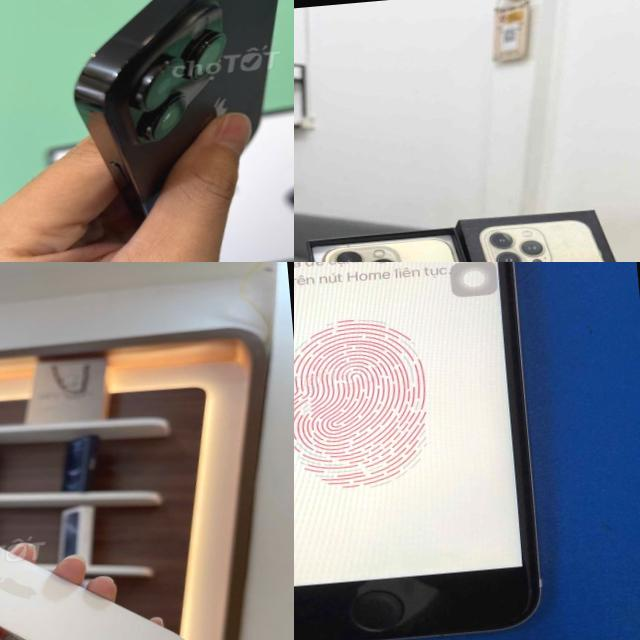gen_14: (41, 0, 294, 237)
gen_16: (0, 547, 183, 640)
gen_7_8: (294, 262, 540, 640)
